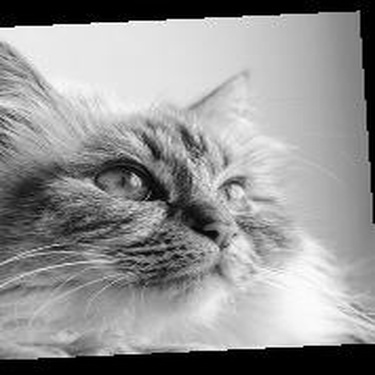cat: (1, 40, 373, 352)
